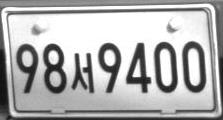0: (181, 40, 206, 94), (153, 41, 178, 94)
4: (125, 42, 151, 94)
8: (41, 42, 68, 95)
9: (15, 43, 39, 94), (97, 42, 121, 93)
서: (70, 53, 95, 93)
